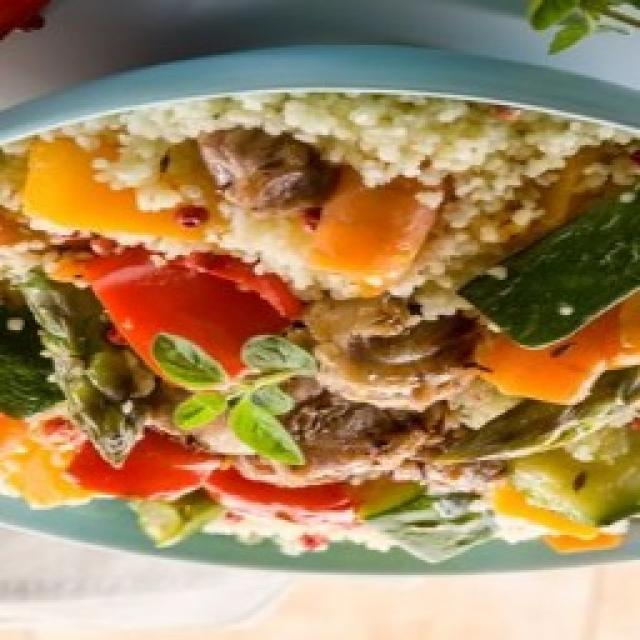Couscous: (0, 93, 640, 562)
